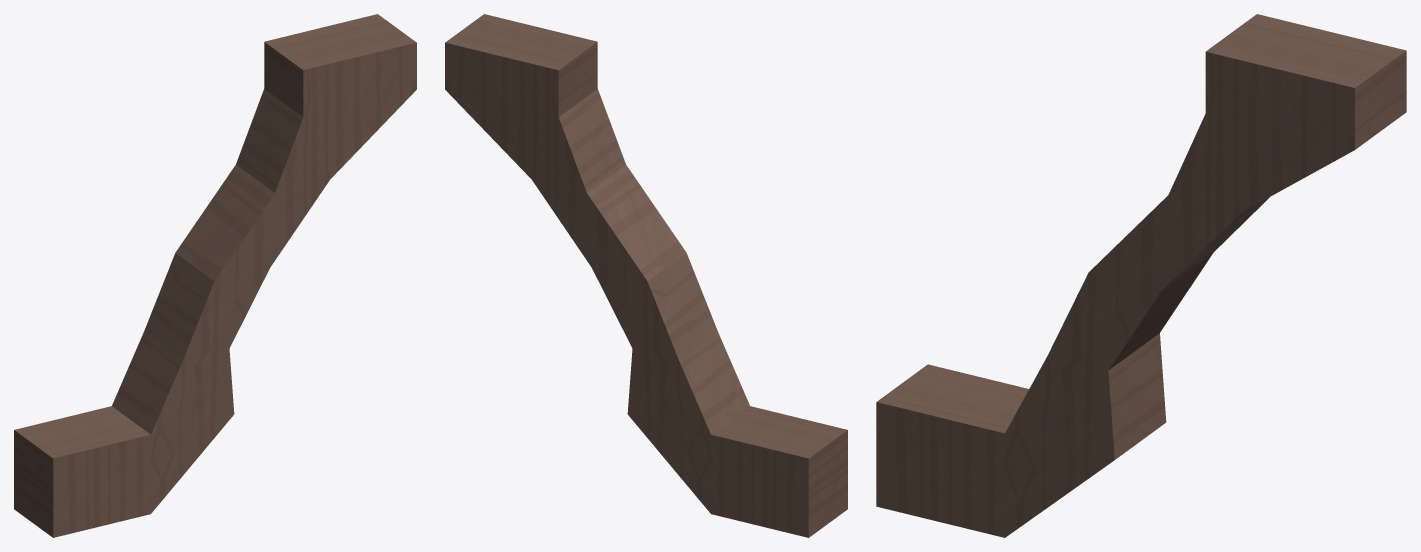
Rendered from BeamArch.fbx.
The picture shows the model from 3 angles, left to right: view 1: azimuth 30°, elevation 25°; view 2: azimuth 150°, elevation 25°; view 3: azimuth 330°, elevation 25°; orthographic projection. The views are drawn at different scales.
Parts seen in each view (by area): view 1: WallBeam.002; view 2: WallBeam.002; view 3: WallBeam.002.
Part boxes in pixels (box(x1,y1,x2,y2)): WallBeam.002: box(14, 14, 416, 537); WallBeam.002: box(445, 14, 847, 537); WallBeam.002: box(876, 14, 1406, 537).
Bounding box in the file's own units: 508 × 542 × 94.58.
